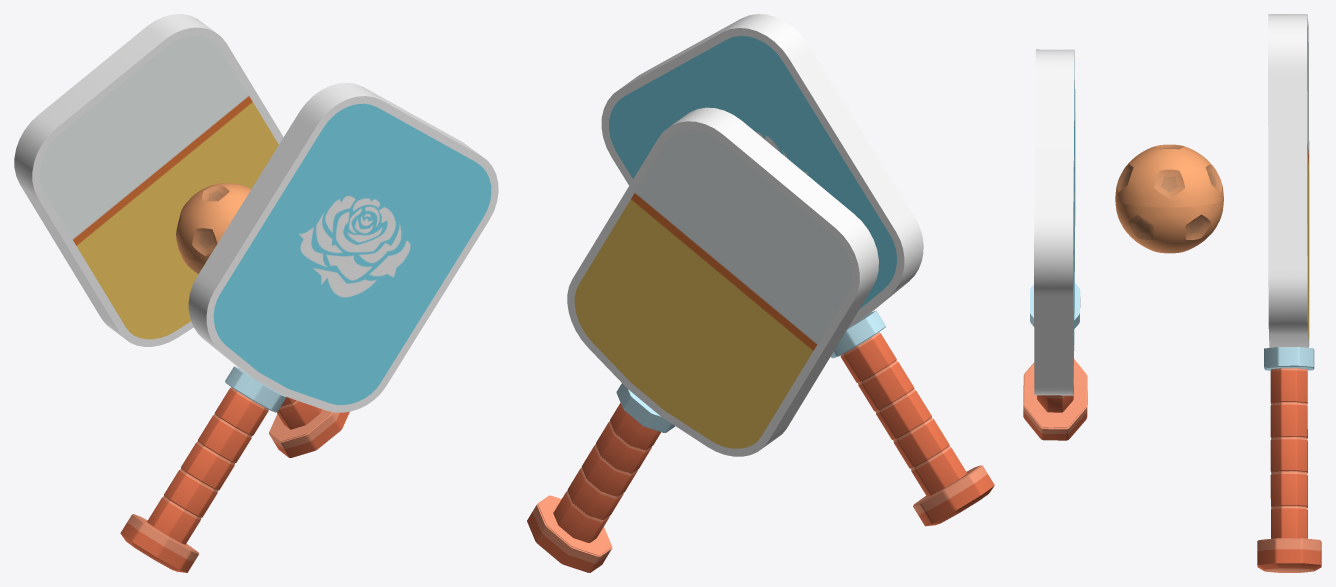
The model's file is level_15.fbx.
3 views of the same model, side by side, from view 1: azimuth 30°, elevation 25°; view 2: azimuth 150°, elevation 25°; view 3: azimuth 270°, elevation 25° (orthographic). The views are drawn at different scales.
Parts seen in each view (by area): view 1: Cube.032, Cube.026, Cube.027, Cube.033, Cube.028, Cube.023, Cube.016, Cube.034, Cube.012, Cube.015, Cube.019, Cube.022 (+18 smaller); view 2: Cube.038, Cube.018, Cube.037, Cube.036, Cube.017, Cube.013, Cube.025, Cube.014, Cube.020, Cube.021, Cube.030, Cylinder.003 (+21 smaller); view 3: Icosphere.002, Icosphere.001, Cube.021, Cube.022, Cylinder.010, Cylinder.003, Cube.017, Cube.036, Cube.020, Cube.019, Cube.016, Cube.035 (+17 smaller).
Boxes of the visible parts, <box> form: Cube.032: <box>197,278,389,412</box>; Cube.026: <box>257,125,398,255</box>; Cube.027: <box>209,201,351,331</box>; Cube.033: <box>32,126,173,265</box>; Cube.028: <box>304,256,437,379</box>; Cube.023: <box>352,179,484,303</box>; Cube.016: <box>136,49,267,187</box>; Cube.034: <box>70,188,189,327</box>; Cube.012: <box>23,77,135,202</box>; Cube.015: <box>101,20,229,125</box>; Cube.019: <box>304,89,430,178</box>; Cube.022: <box>399,122,498,226</box>; Cube.038: <box>567,274,779,456</box>; Cube.018: <box>713,225,859,371</box>; Cube.037: <box>673,290,819,436</box>; Cube.036: <box>576,209,712,354</box>; Cube.017: <box>615,144,752,289</box>; Cube.013: <box>753,174,869,306</box>; Cube.025: <box>716,58,851,168</box>; Cube.014: <box>655,114,788,224</box>; Cube.020: <box>671,21,802,108</box>; Cube.021: <box>601,54,700,163</box>; Cube.030: <box>800,138,901,235</box>; Cylinder.003: <box>527,495,612,572</box>; Icosphere.002: <box>1115,144,1223,207</box>; Icosphere.001: <box>1115,199,1223,253</box>; Cube.021: <box>1053,148,1073,296</box>; Cube.022: <box>1034,147,1054,296</box>; Cylinder.010: <box>1023,359,1087,440</box>; Cylinder.003: <box>1257,538,1321,572</box>; Cube.017: <box>1287,75,1308,179</box>; Cube.036: <box>1287,172,1308,274</box>; Cube.020: <box>1054,49,1074,166</box>; Cube.019: <box>1035,49,1055,147</box>; Cube.016: <box>1268,75,1287,171</box>; Cube.035: <box>1268,172,1287,268</box>.
Bounding box in the file's own units: 17.57 × 21.23 × 11.64.
